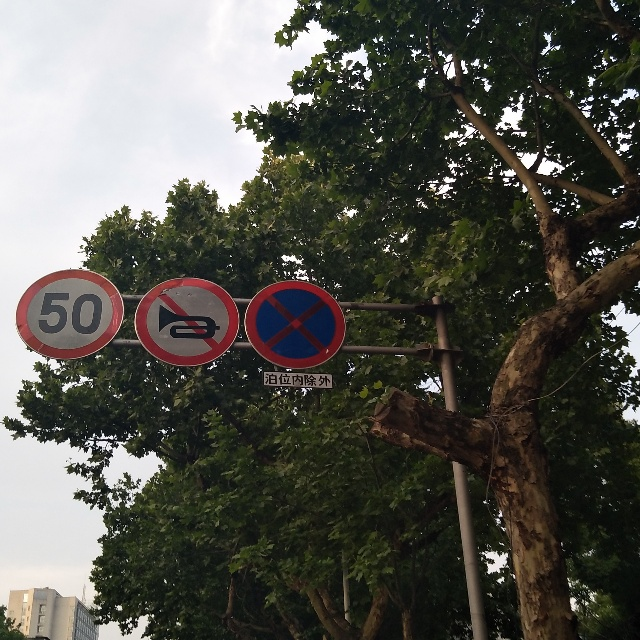nohonk: (134, 277, 239, 367), (244, 279, 345, 370)
